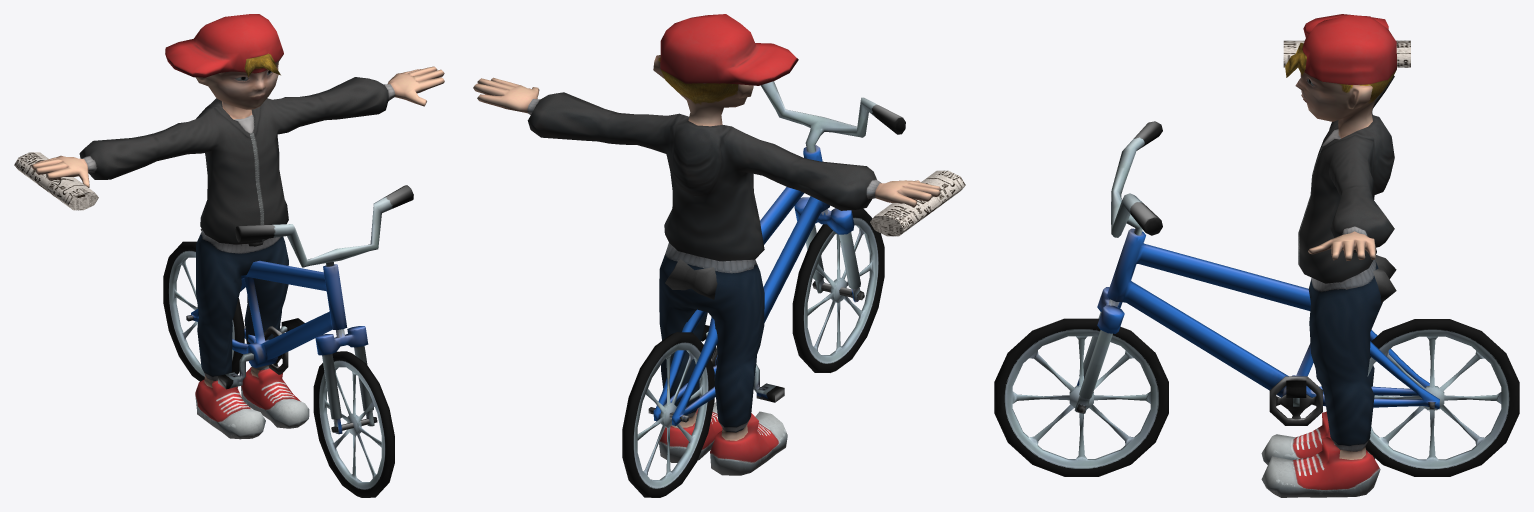
Rendered from Paperboy.dae.
The picture shows the model from 3 angles, left to right: view 1: azimuth 30°, elevation 25°; view 2: azimuth 150°, elevation 25°; view 3: azimuth 270°, elevation 25°; orthographic projection. The views are drawn at different scales.
Visible parts, largest first — view 1: Boy, FrontWheel, Bike, Fork, BackWheel, NewsPaper, Pedivela; view 2: Boy, Bike, BackWheel, FrontWheel, Fork, NewsPaper; view 3: Boy, Bike, FrontWheel, BackWheel, Fork, Pedivela, NewsPaper.
Boxes of the visible parts, x1=… form: Boy: x1=31, y1=14, x2=444, y2=439; FrontWheel: x1=313, y1=351, x2=394, y2=497; Bike: x1=186, y1=228, x2=347, y2=367; Fork: x1=235, y1=185, x2=413, y2=434; BackWheel: x1=163, y1=241, x2=244, y2=381; NewsPaper: x1=14, y1=152, x2=98, y2=210; Pedivela: x1=239, y1=326, x2=288, y2=380; Boy: x1=473, y1=14, x2=940, y2=475; Bike: x1=648, y1=144, x2=829, y2=425; BackWheel: x1=622, y1=332, x2=714, y2=497; FrontWheel: x1=792, y1=208, x2=884, y2=372; Fork: x1=761, y1=81, x2=905, y2=302; NewsPaper: x1=870, y1=170, x2=965, y2=236; Boy: x1=1261, y1=14, x2=1396, y2=497; Bike: x1=1107, y1=228, x2=1439, y2=409; FrontWheel: x1=994, y1=318, x2=1168, y2=476; BackWheel: x1=1365, y1=319, x2=1519, y2=476; Fork: x1=1074, y1=121, x2=1162, y2=413; Pedivela: x1=1269, y1=376, x2=1322, y2=425; NewsPaper: x1=1283, y1=40, x2=1410, y2=67.
Size of the model in its own units: 584 by 537 by 560.
3 materials, 3 textured.
